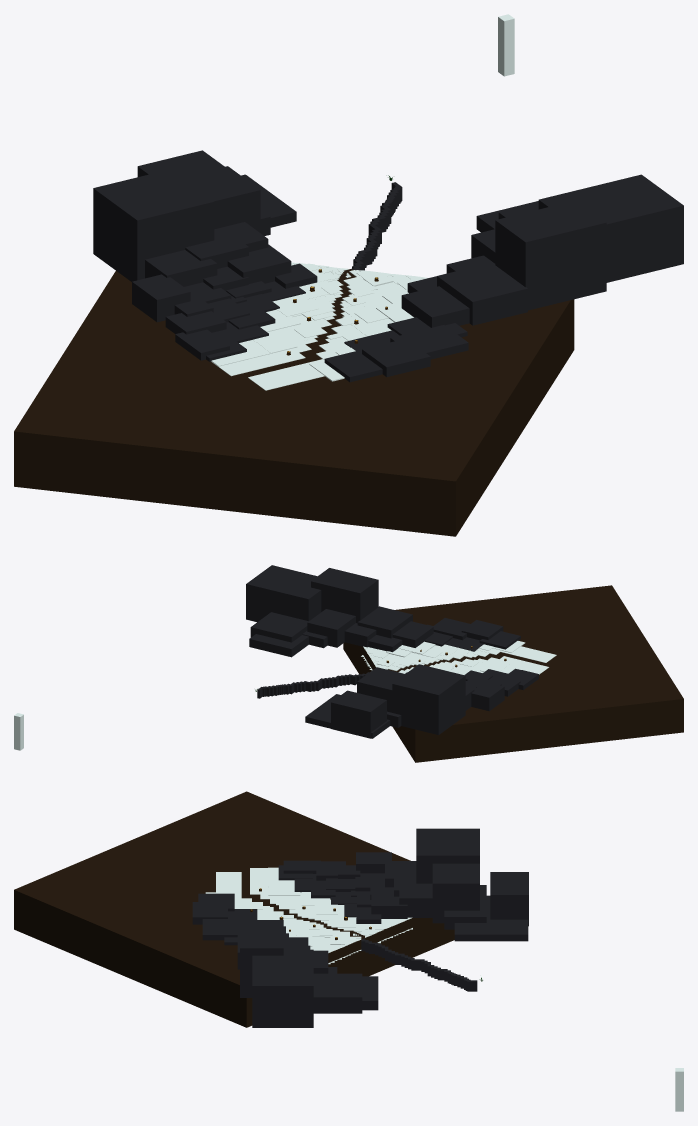
File: Place 1.fbx
3 renders of one model, top to bottom at view 1: azimuth 30°, elevation 25°; view 2: azimuth 150°, elevation 25°; view 3: azimuth 270°, elevation 25°, orthographic. The views are drawn at different scales.
Parts seen in each view (by area): view 1: BasePlane, Mountain Stone.036, Mountain Stone.037, Mountain Stone.038, Mountain Stone.022, Mountain Stone.028, Mountain Stone.025, Mountain Stone.016, Mountain Stone.014, Mountain Stone.019, Mountain Stone.013, Line1 Path (+10 smaller); view 2: BasePlane, Mountain Stone.036, Mountain Stone.038, Mountain Stone.037, Mountain Stone.030, Mountain Stone.034, Mountain Stone.026, Line1 Path, Mountain Stone.028, Mountain Stone.022, Mountain Stone.035, Mountain Stone.016 (+13 smaller); view 3: BasePlane, Mountain Stone.038, Mountain Stone.036, Mountain Stone.028, Mountain Stone.037, Mountain Stone.034, Mountain Stone.030, Mountain Stone.032, Line1 Path, Mountain Stone.013, Mountain Stone.029, Mountain Stone.031 (+7 smaller).
Part boxes in pixels (bbox=[...]): BasePlane: bbox=[14, 269, 574, 536]; Mountain Stone.036: bbox=[93, 169, 214, 281]; Mountain Stone.037: bbox=[495, 200, 606, 310]; Mountain Stone.038: bbox=[538, 174, 683, 282]; Mountain Stone.022: bbox=[437, 262, 527, 325]; Mountain Stone.028: bbox=[181, 166, 260, 232]; Mountain Stone.025: bbox=[401, 286, 469, 327]; Mountain Stone.016: bbox=[132, 274, 190, 322]; Mountain Stone.014: bbox=[145, 250, 217, 286]; Mountain Stone.019: bbox=[362, 338, 430, 377]; Mountain Stone.013: bbox=[227, 244, 291, 283]; Line1 Path: bbox=[350, 182, 402, 270]; BasePlane: bbox=[343, 585, 683, 762]; Mountain Stone.036: bbox=[392, 664, 465, 734]; Mountain Stone.038: bbox=[246, 565, 321, 622]; Mountain Stone.037: bbox=[311, 568, 378, 623]; Mountain Stone.030: bbox=[331, 690, 386, 738]; Mountain Stone.034: bbox=[250, 612, 308, 642]; Mountain Stone.026: bbox=[307, 609, 355, 647]; Line1 Path: bbox=[257, 672, 369, 698]; Mountain Stone.028: bbox=[357, 667, 404, 712]; Mountain Stone.022: bbox=[357, 606, 412, 638]; Mountain Stone.035: bbox=[249, 634, 308, 657]; Mountain Stone.016: bbox=[471, 681, 504, 711]; BasePlane: bbox=[14, 791, 454, 1027]; Mountain Stone.038: bbox=[252, 949, 313, 1027]; Mountain Stone.036: bbox=[416, 828, 479, 883]; Mountain Stone.028: bbox=[432, 863, 479, 923]; Mountain Stone.037: bbox=[240, 920, 283, 997]; Mountain Stone.034: bbox=[313, 973, 362, 1013]; Mountain Stone.030: bbox=[490, 872, 528, 926]; Mountain Stone.032: bbox=[454, 895, 528, 941]; Line1 Path: bbox=[361, 938, 477, 991]; Mountain Stone.013: bbox=[371, 889, 407, 918]; Mountain Stone.029: bbox=[399, 883, 432, 917]; Mountain Stone.031: bbox=[444, 885, 486, 929].
Size of the model in its own units: 60463 by 8977 by 61063.
